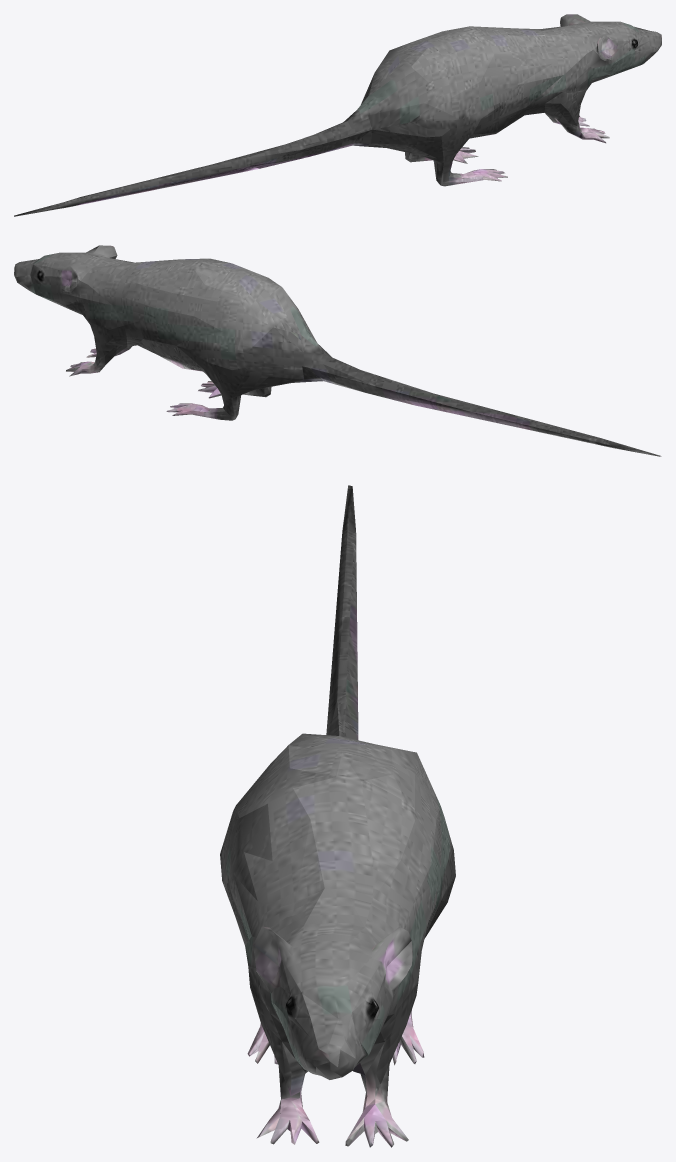
File: jpeg_rat.glb
The picture shows the model from 3 angles, top to bottom: view 1: azimuth 30°, elevation 25°; view 2: azimuth 150°, elevation 25°; view 3: azimuth 270°, elevation 25°; orthographic projection. The views are drawn at different scales.
Visible parts, largest first — view 1: Rat; view 2: Rat; view 3: Rat.
Part boxes in pixels (x1,y1,x2,y2): Rat: (14, 14, 661, 216); Rat: (14, 245, 661, 456); Rat: (220, 485, 455, 1147).
Size of the model in its own units: 4.21 by 0.8627 by 0.6687.
Materials: 1 (1 with a texture image).
